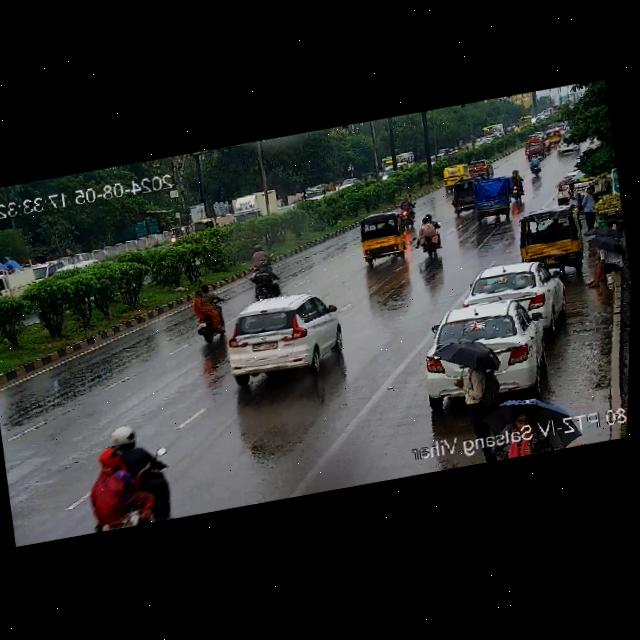bus: (381, 147, 416, 173), (480, 123, 505, 139)
car: (408, 294, 563, 416), (218, 287, 348, 385), (462, 256, 568, 327), (511, 204, 586, 273), (352, 207, 412, 267), (469, 175, 514, 225), (449, 178, 477, 216), (442, 161, 470, 189), (468, 155, 496, 181), (526, 140, 548, 161), (189, 217, 216, 232), (556, 138, 581, 154), (545, 128, 562, 144), (527, 130, 546, 143)
motorcycle: (66, 416, 177, 536), (187, 280, 232, 344), (239, 243, 286, 303), (413, 213, 444, 257), (394, 194, 417, 225), (528, 151, 545, 178), (170, 223, 189, 243), (543, 136, 551, 153)
person: (455, 357, 497, 437), (585, 224, 628, 288), (502, 407, 546, 459), (579, 184, 599, 227), (566, 180, 580, 202)
truck: (229, 189, 277, 223), (0, 259, 37, 301)
